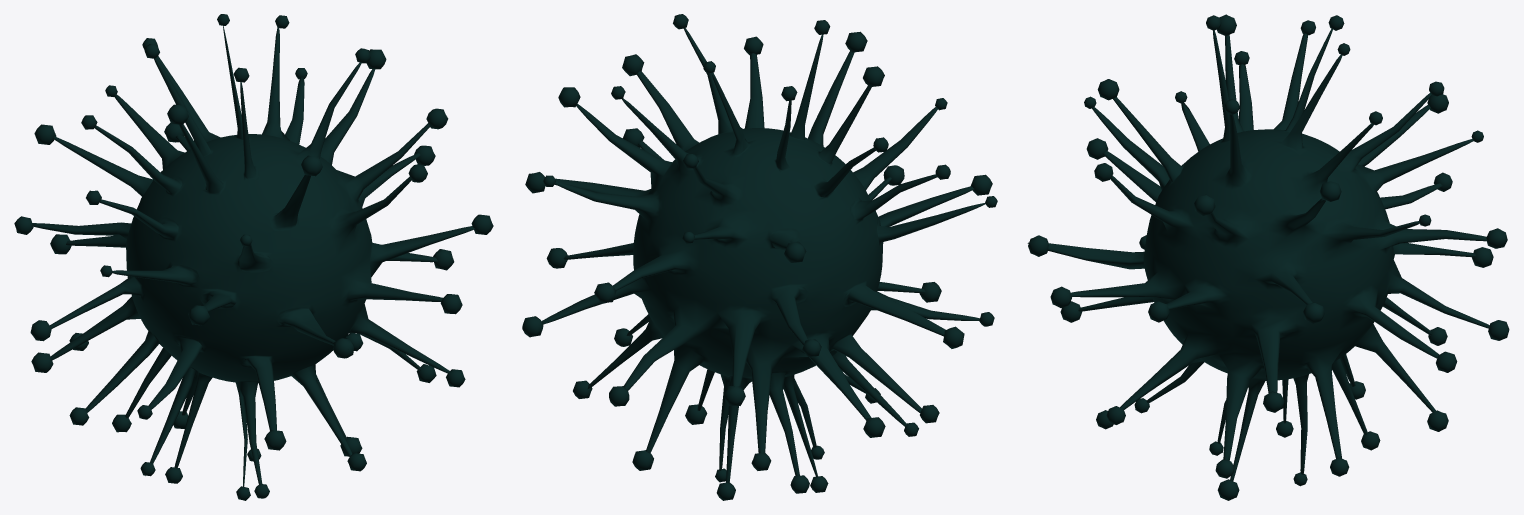
File: Virus Grundmodell.fbx
The picture shows the model from 3 angles, left to right: view 1: azimuth 30°, elevation 25°; view 2: azimuth 150°, elevation 25°; view 3: azimuth 270°, elevation 25°; orthographic projection.
Parts seen in each view (by area): view 1: polySurface57; view 2: polySurface57; view 3: polySurface57.
Part boxes in pixels (box(x1,y1,x2,y2)): polySurface57: box(14, 14, 493, 500); polySurface57: box(522, 14, 997, 500); polySurface57: box(1027, 14, 1509, 500).
Size of the model in its own units: 3.16 by 3.17 by 3.14.
